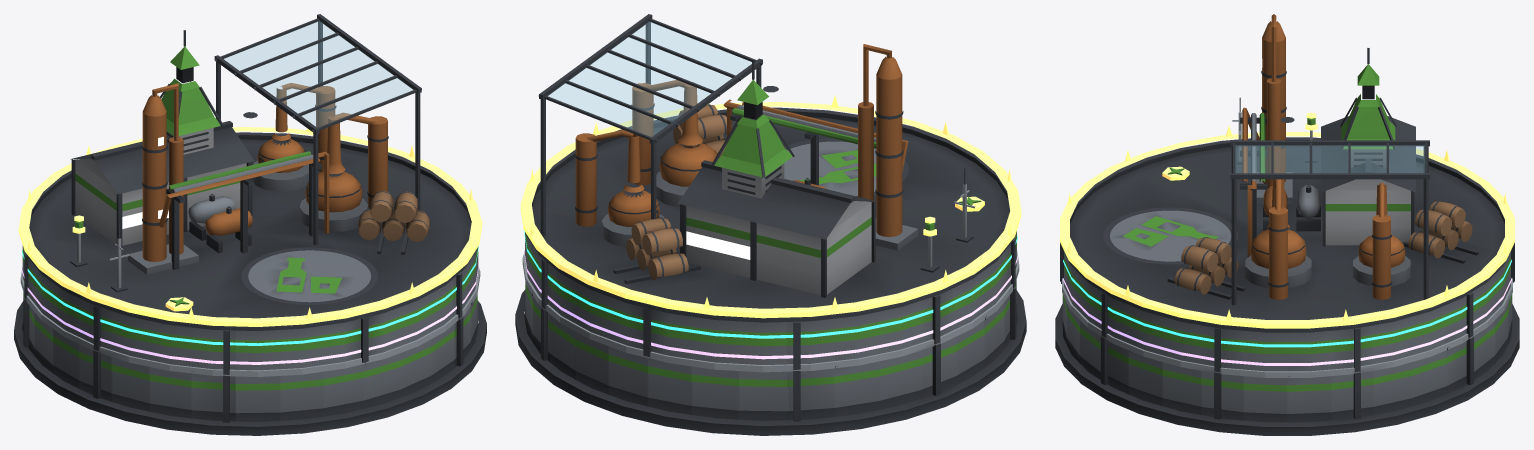
The model's file is distillery_s_far.glb.
3 renders of one model, left to right at view 1: azimuth 30°, elevation 25°; view 2: azimuth 150°, elevation 25°; view 3: azimuth 270°, elevation 25°, orthographic. The views are drawn at different scales.
Visible parts, largest first — view 1: Roof, Base, L5, L2, L3, L4; view 2: Roof, Base, L5, L2, L3, L4; view 3: Roof, Base, L5, L2, L3, L4.
Part boxes in pixels (<box>): Roof: <box>22,14,478,374</box>; Base: <box>14,292,486,435</box>; L5: <box>18,121,482,326</box>; L2: <box>20,223,480,376</box>; L3: <box>22,246,478,345</box>; L4: <box>22,263,478,364</box>; Roof: <box>525,14,1016,369</box>; Base: <box>515,280,1026,435</box>; L5: <box>520,95,1021,318</box>; L2: <box>522,168,1019,372</box>; L3: <box>524,230,1017,338</box>; L4: <box>524,250,1017,359</box>; Roof: <box>1060,14,1514,372</box>; Base: <box>1055,281,1519,435</box>; L5: <box>1060,112,1514,328</box>; L2: <box>1062,97,1512,377</box>; L3: <box>1063,259,1511,347</box>; L4: <box>1063,278,1511,365</box>.
Size of the model in its own units: 11.74 by 7.76 by 11.74.
